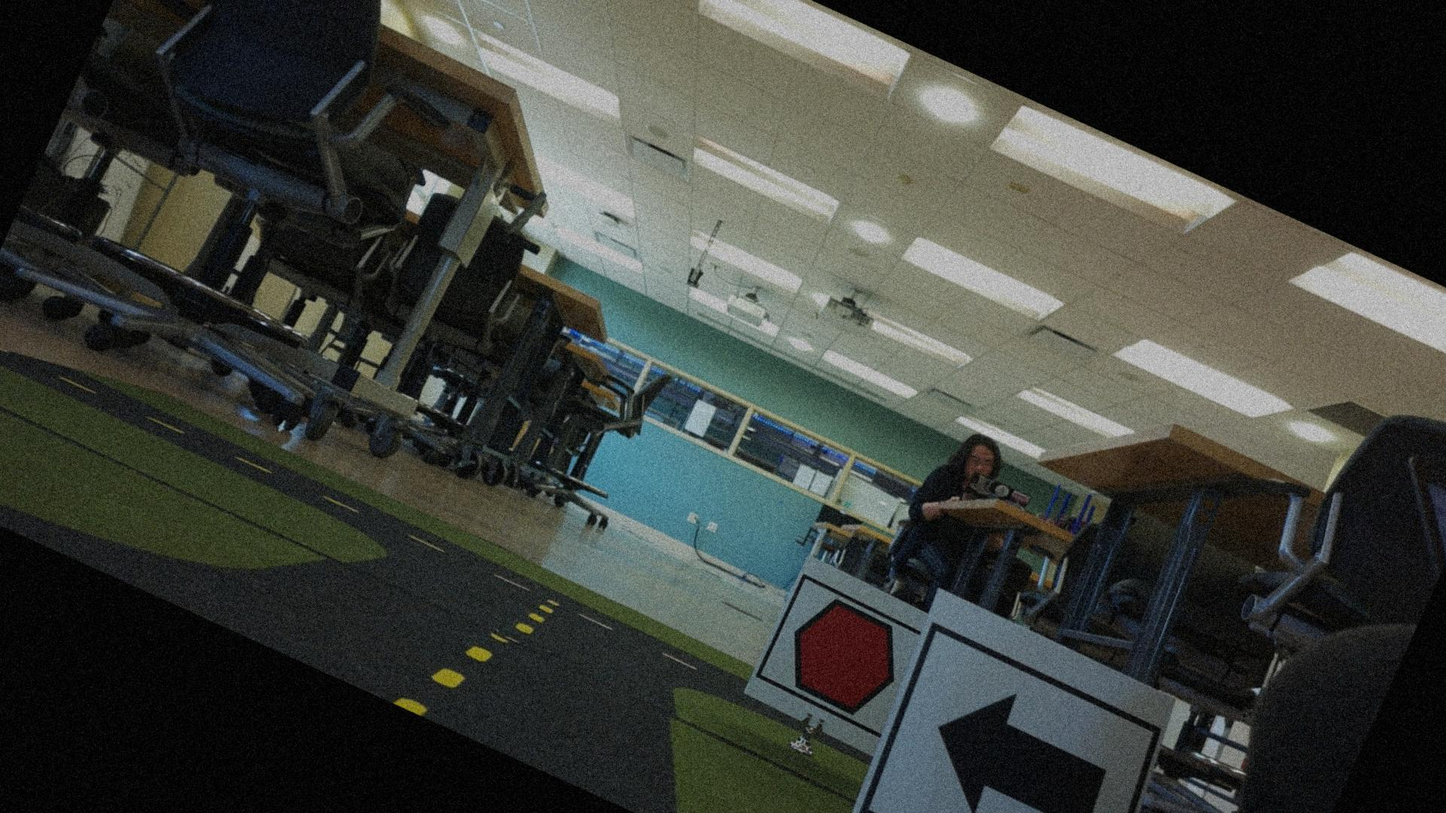stop: (763, 582, 924, 735)
turnright: (860, 635, 1159, 812)
yellowline: (397, 622, 493, 732), (511, 594, 554, 643)
